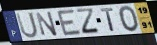E: (56, 8, 83, 37)
N: (35, 11, 59, 37)
O: (118, 5, 140, 33)
T: (99, 7, 116, 33)
U: (15, 11, 39, 39)
Z: (75, 8, 102, 36)
